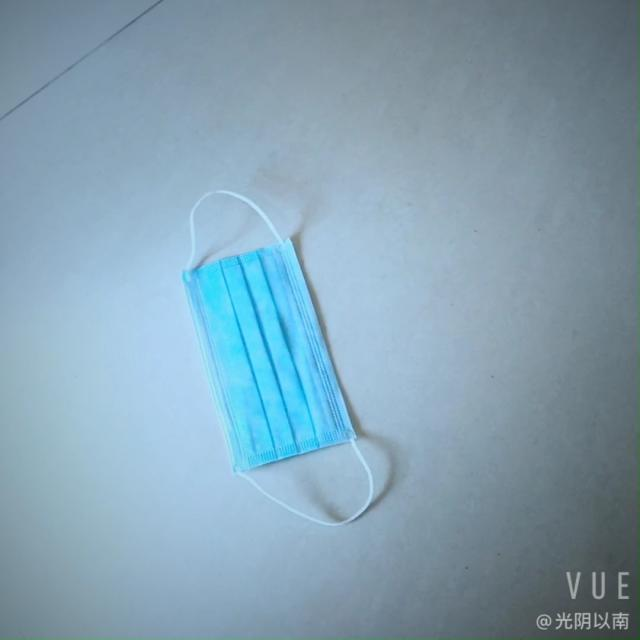non-organic waste: (165, 240, 376, 482)
